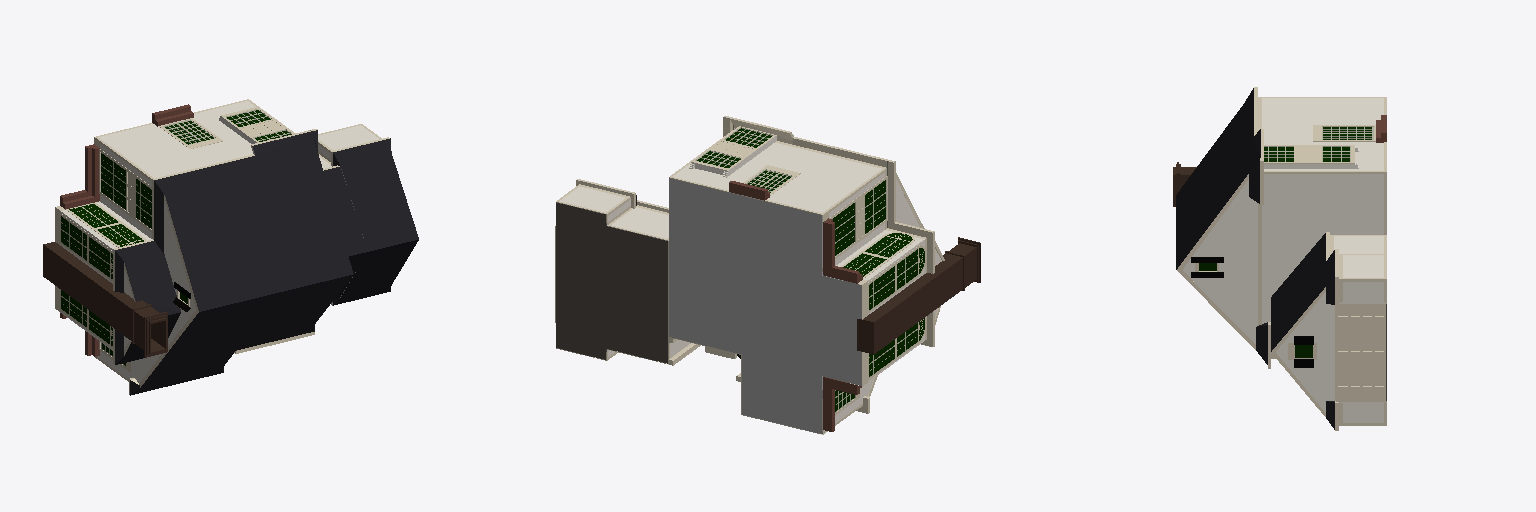
File: modern-house.obj
3 renders of one model, left to right at view 1: azimuth 30°, elevation 25°; view 2: azimuth 150°, elevation 25°; view 3: azimuth 270°, elevation 25°, orthographic.
Visible parts, largest first — view 1: D9006Z03; view 2: D9006Z03; view 3: D9006Z03.
Part boxes in pixels (x1,y1,x2,y2): D9006Z03: (43, 99, 418, 395); D9006Z03: (555, 116, 980, 434); D9006Z03: (1173, 87, 1386, 430).
Bounding box in the file's own units: 13300 × 9439 × 7572.